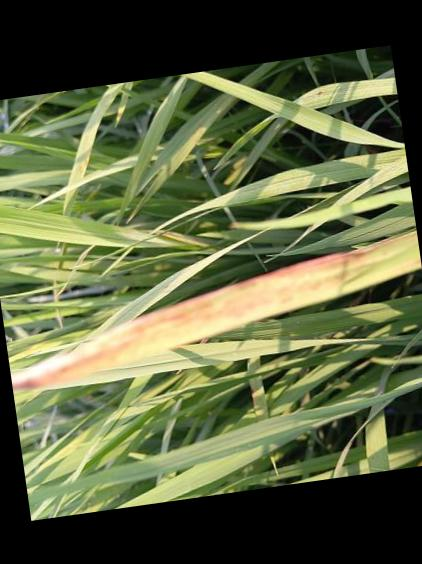Leaf Blight: (10, 228, 422, 393)
